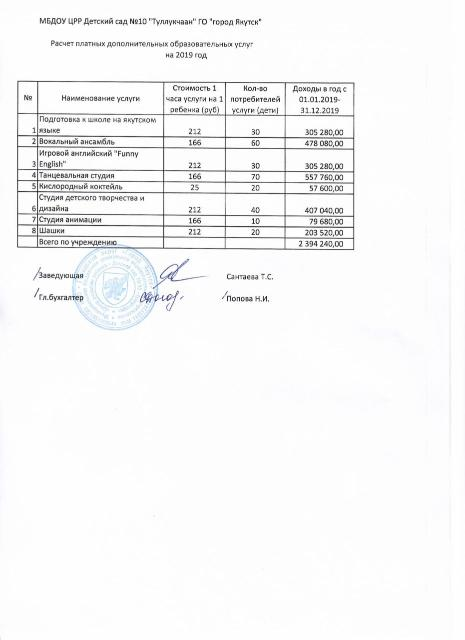stamp: (72, 246, 156, 332)
